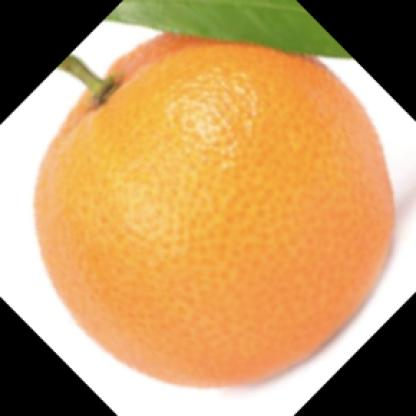fresh: (32, 29, 393, 388)
